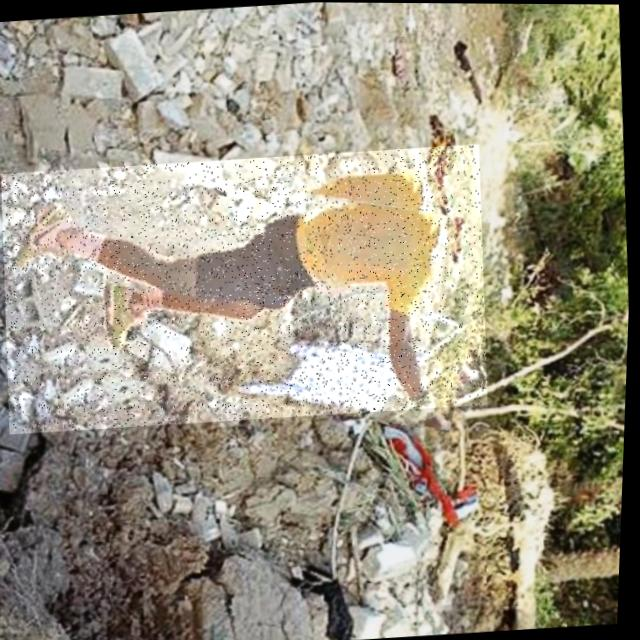Person in Rubble: (0, 140, 497, 437)
